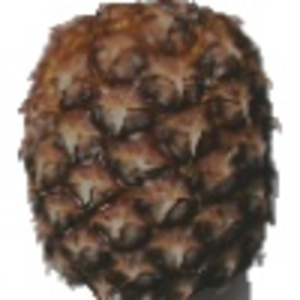abacaxi: (17, 1, 283, 296)
